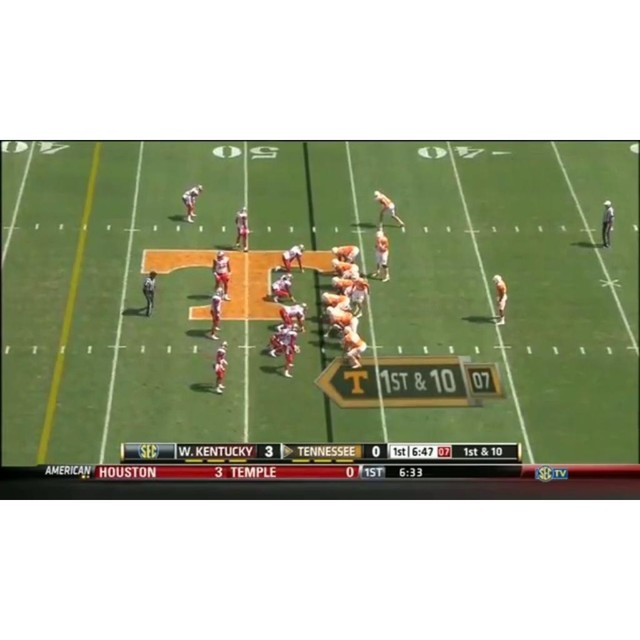american-football-player: (323, 305, 361, 341), (373, 190, 405, 232), (339, 326, 368, 369), (278, 325, 300, 378), (371, 227, 391, 282), (212, 249, 233, 301), (276, 303, 308, 333), (208, 288, 226, 340), (491, 274, 509, 325), (212, 342, 229, 394), (268, 273, 296, 304), (182, 184, 204, 222), (280, 244, 306, 275), (234, 206, 251, 252), (319, 291, 348, 313), (330, 258, 360, 278), (331, 245, 360, 265), (330, 276, 355, 297)
referee: (600, 200, 616, 250), (141, 270, 158, 316)
